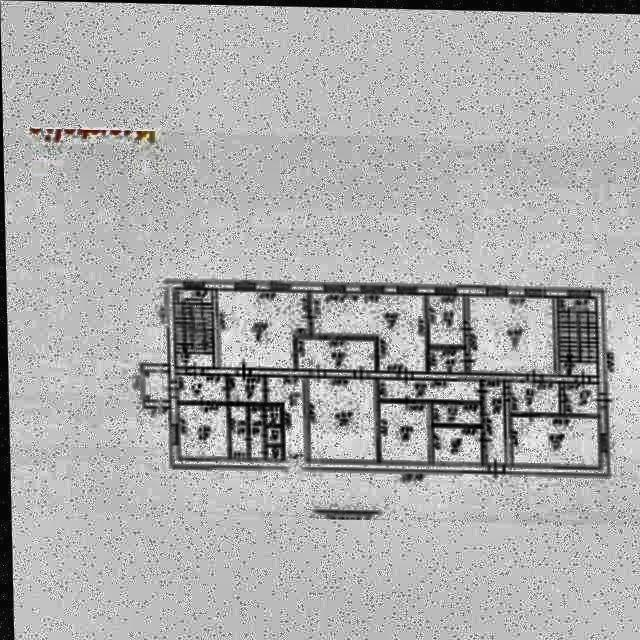room: (308, 291, 427, 370), (211, 289, 308, 369), (466, 294, 555, 372), (308, 376, 377, 461), (511, 414, 598, 465), (264, 372, 304, 462), (378, 400, 428, 463), (557, 295, 596, 374), (173, 288, 212, 367), (177, 403, 226, 458), (297, 338, 374, 370), (481, 380, 507, 463), (378, 379, 479, 399), (425, 293, 463, 343), (432, 426, 480, 460), (509, 379, 558, 412), (175, 374, 226, 400), (228, 403, 247, 459), (563, 381, 596, 411), (227, 376, 263, 402), (432, 403, 479, 422), (429, 348, 463, 371), (248, 405, 263, 457), (142, 371, 168, 401), (265, 405, 279, 423), (266, 427, 280, 443), (265, 446, 280, 457)
